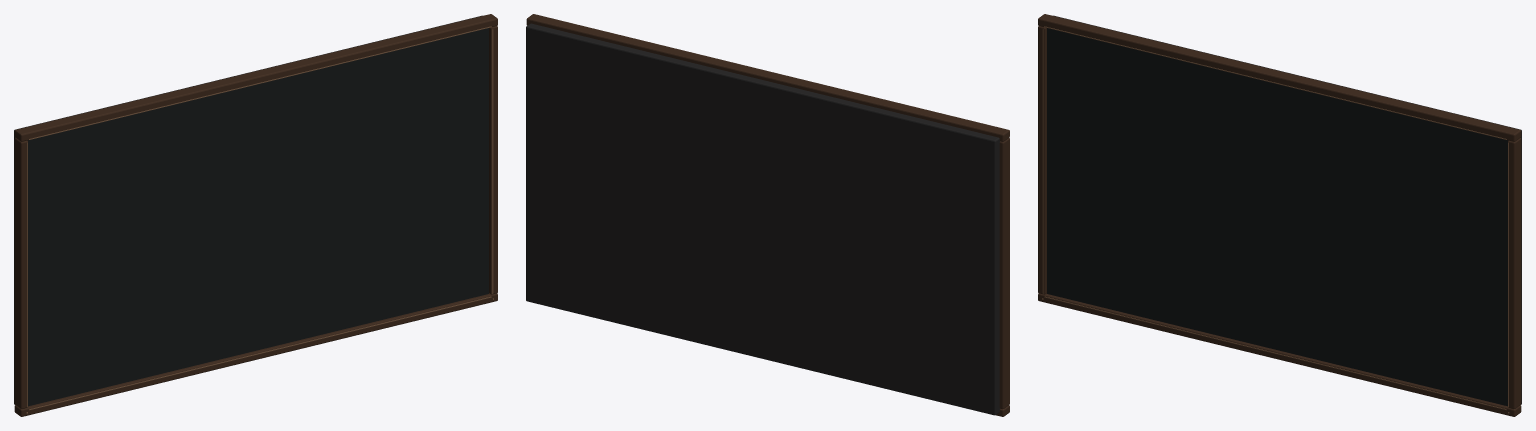
File: screen_wall_5m.fbx
3 renders of one model, left to right at view 1: azimuth 30°, elevation 25°; view 2: azimuth 150°, elevation 25°; view 3: azimuth 330°, elevation 25°, orthographic.
Visible parts, largest first — view 1: screen_wall_5m; view 2: screen_wall_5m; view 3: screen_wall_5m.
Part boxes in pixels (bbox=[...]): screen_wall_5m: bbox=[14, 14, 497, 416]; screen_wall_5m: bbox=[526, 14, 1009, 416]; screen_wall_5m: bbox=[1038, 14, 1521, 416].
Size of the model in its own units: 5.12 by 2.9 by 0.2235.
